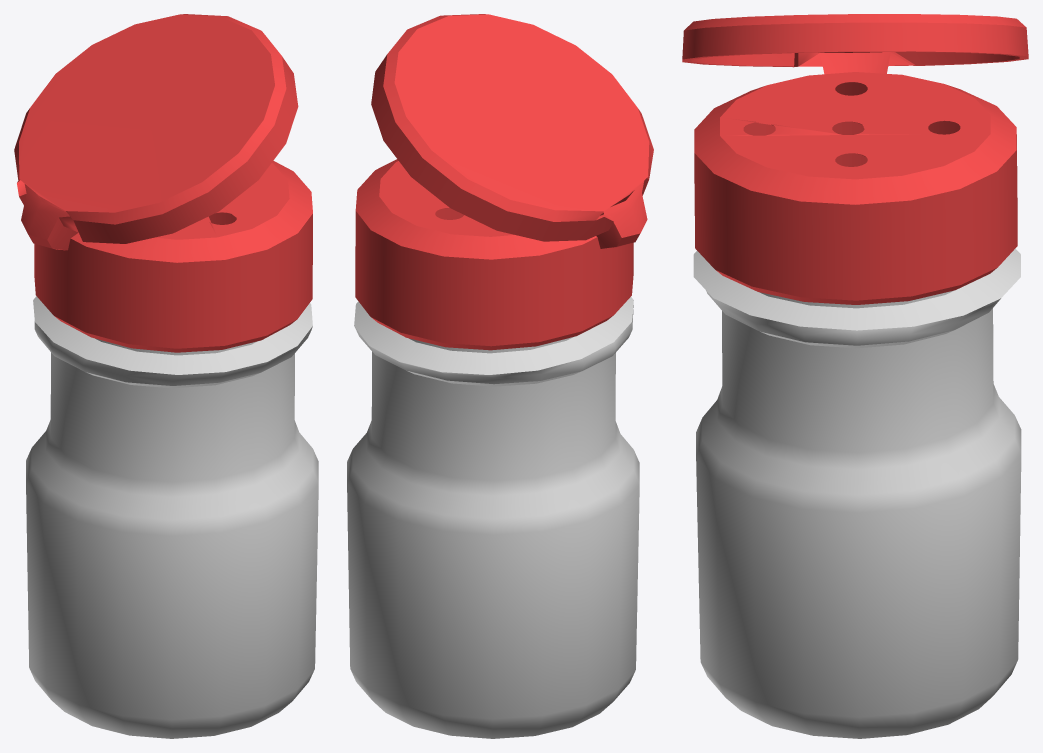
The model's file is BEKAS LADA_02.FBX.
3 renders of one model, left to right at view 1: azimuth 30°, elevation 25°; view 2: azimuth 150°, elevation 25°; view 3: azimuth 270°, elevation 25°, orthographic. The views are drawn at different scales.
Visible parts, largest first — view 1: Cylinder001; view 2: Cylinder001; view 3: Cylinder001.
Part boxes in pixels (box(x1,y1,x2,y2)): Cylinder001: box(14, 14, 318, 738); Cylinder001: box(347, 14, 653, 738); Cylinder001: box(682, 14, 1028, 738).
Bounding box in the file's own units: 38.8 × 86.35 × 38.17.
